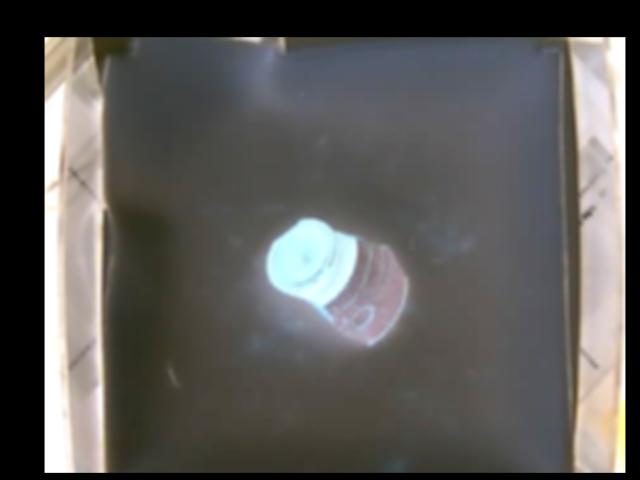China: (264, 219, 410, 343)
